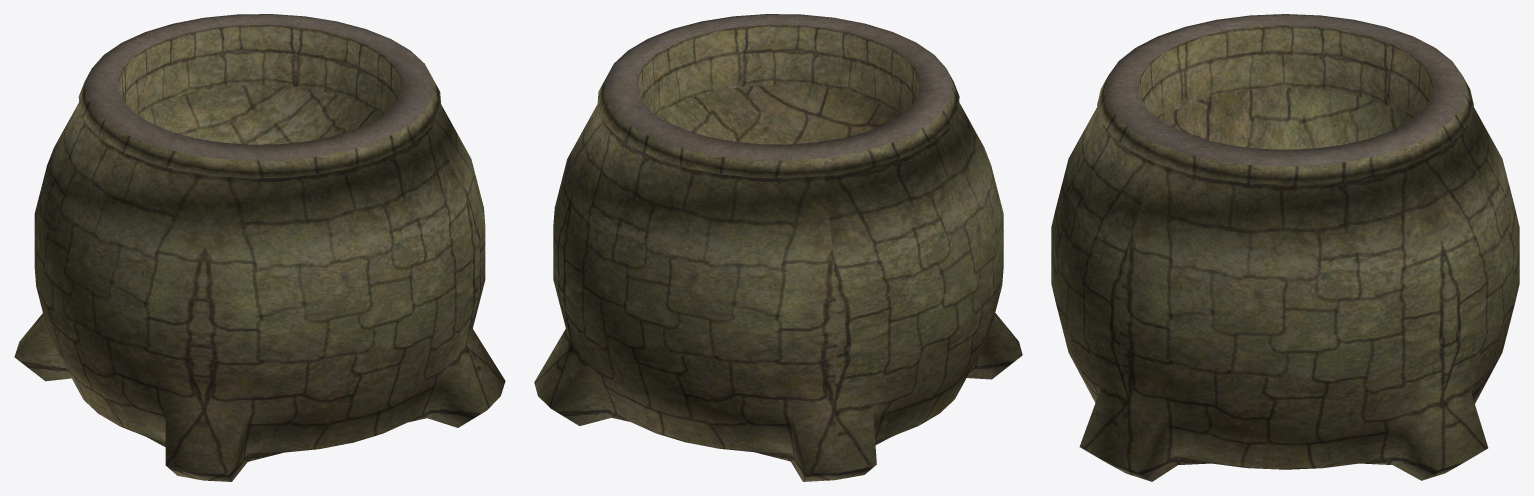
Rendered from Cauldron_1.fbx.
3 views of the same model, side by side, from view 1: azimuth 30°, elevation 25°; view 2: azimuth 150°, elevation 25°; view 3: azimuth 270°, elevation 25° (orthographic). The views are drawn at different scales.
Visible parts, largest first — view 1: Cylinder; view 2: Cylinder; view 3: Cylinder.
Part boxes in pixels (x1,y1,x2,y2): Cylinder: (14, 14, 505, 481); Cylinder: (534, 14, 1022, 481); Cylinder: (1051, 14, 1519, 481).
Size of the model in its own units: 2.65 by 1.98 by 2.65.
